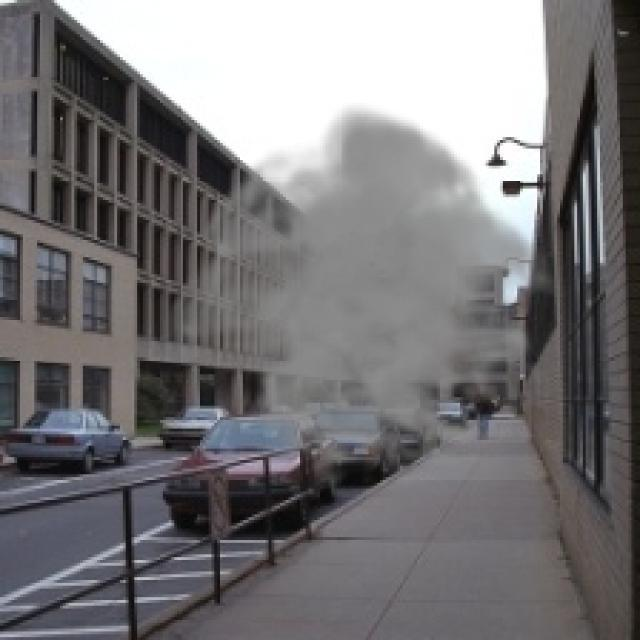Smoke: (159, 102, 572, 492)
